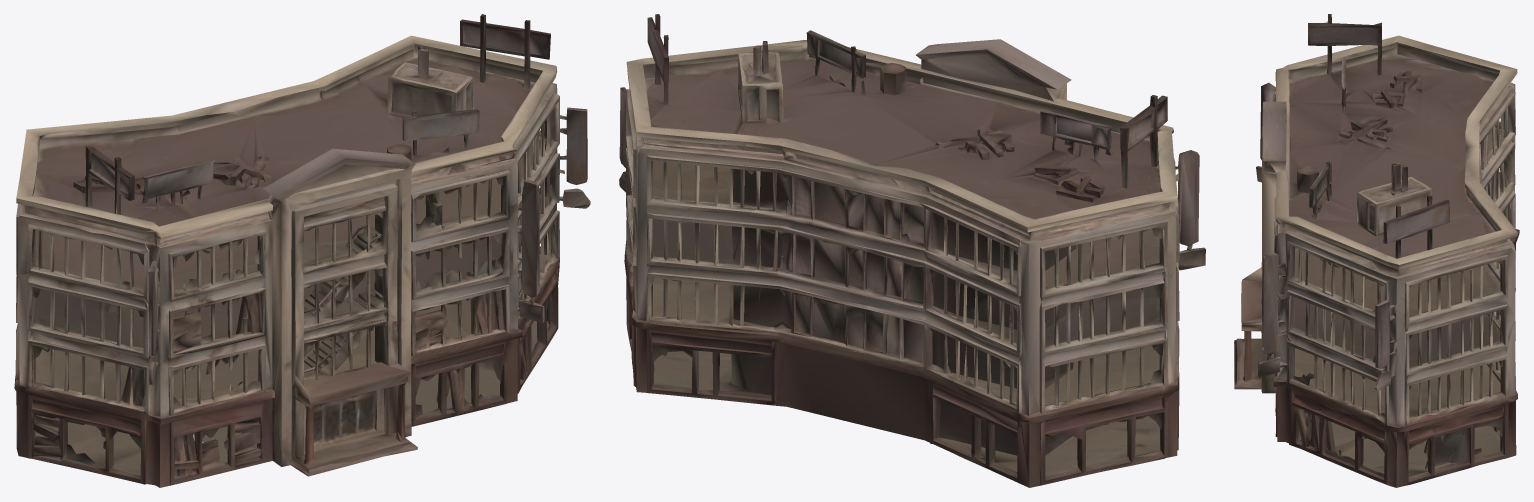
The model's file is mall_idle.glb.
3 views of the same model, side by side, from view 1: azimuth 30°, elevation 25°; view 2: azimuth 150°, elevation 25°; view 3: azimuth 270°, elevation 25° (orthographic). The views are drawn at different scales.
Parts seen in each view (by area): view 1: tripo_node_83756645-c034-4dde-bcf9-8129350fdb12; view 2: tripo_node_83756645-c034-4dde-bcf9-8129350fdb12; view 3: tripo_node_83756645-c034-4dde-bcf9-8129350fdb12.
Boxes of the visible parts, bbox=[...] form: tripo_node_83756645-c034-4dde-bcf9-8129350fdb12: bbox=[14, 14, 590, 487]; tripo_node_83756645-c034-4dde-bcf9-8129350fdb12: bbox=[619, 14, 1205, 487]; tripo_node_83756645-c034-4dde-bcf9-8129350fdb12: bbox=[1234, 14, 1519, 487].
Bounding box in the file's own units: 24.01 × 12.69 × 12.15.
1 material, 1 textured.
